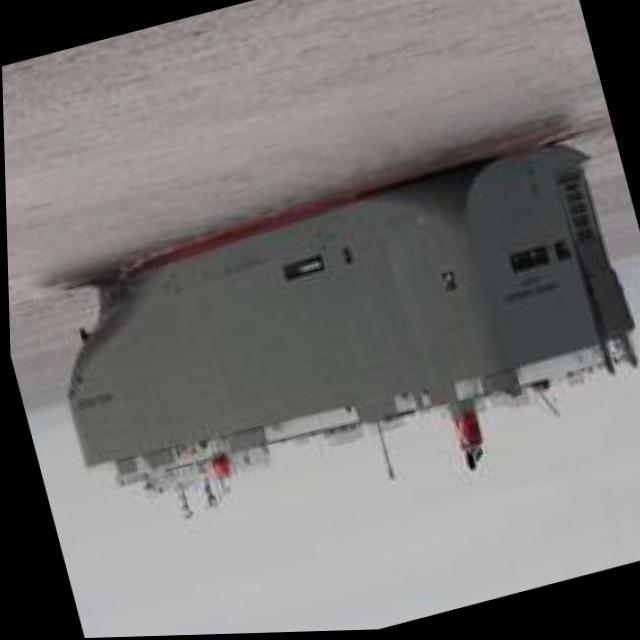ship2: (64, 144, 638, 519)
